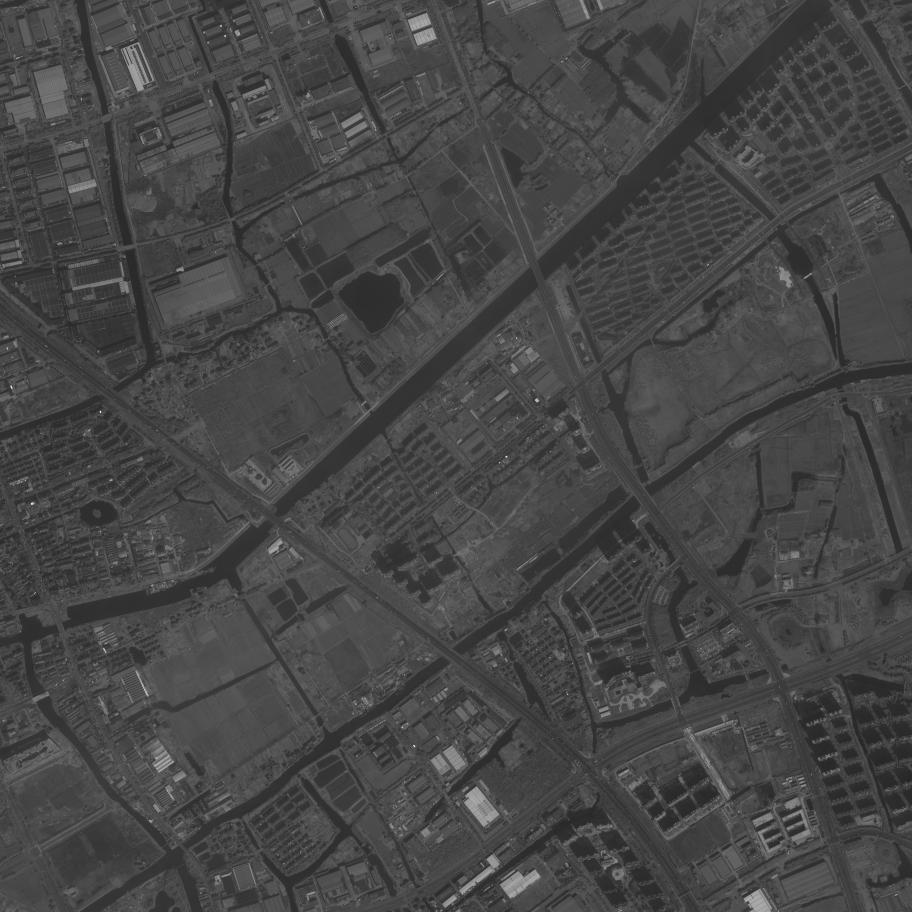ship: (367, 705, 377, 713), (360, 711, 369, 718)
